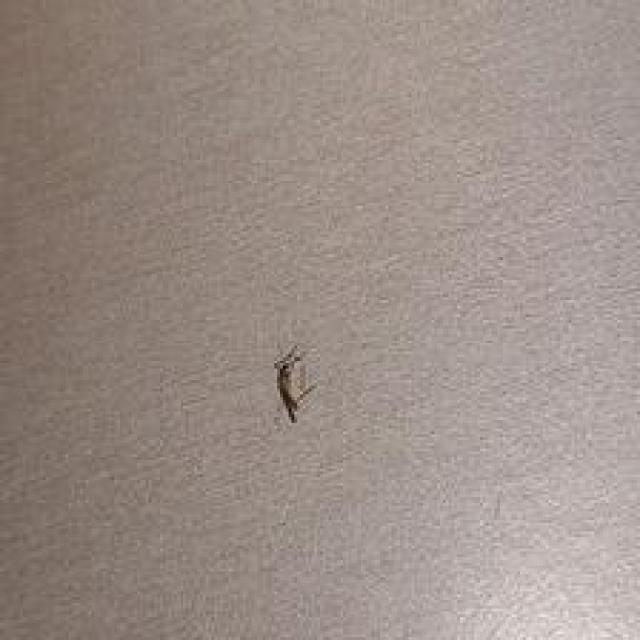Culex: (272, 344, 317, 424)
